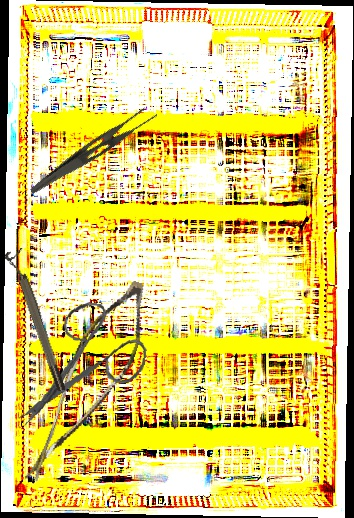Dressing Forceps: (29, 98, 159, 208)
Fixation Ring: (3, 247, 69, 395)
Iris Scissors: (17, 295, 153, 442)
Micro Scissor: (23, 267, 157, 504)
